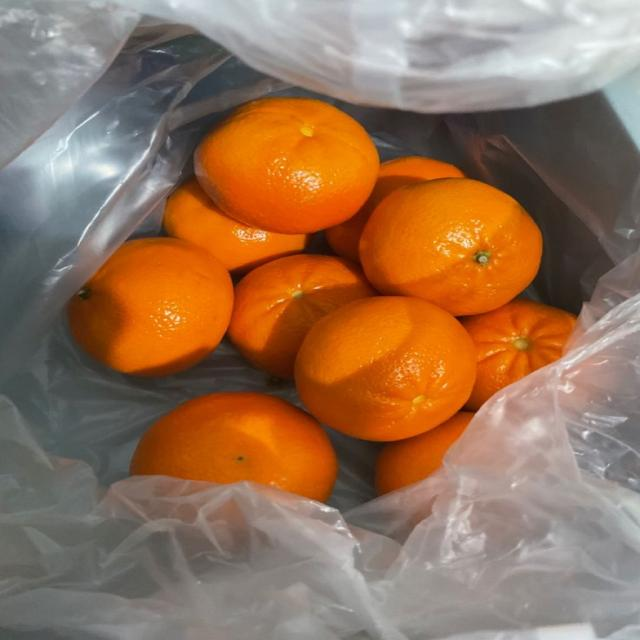orange: (295, 297, 475, 441), (195, 98, 379, 233), (360, 179, 541, 315), (68, 239, 233, 376), (131, 393, 337, 501), (229, 255, 375, 377), (326, 156, 463, 262), (164, 179, 308, 271), (461, 299, 575, 410), (375, 412, 473, 494)
